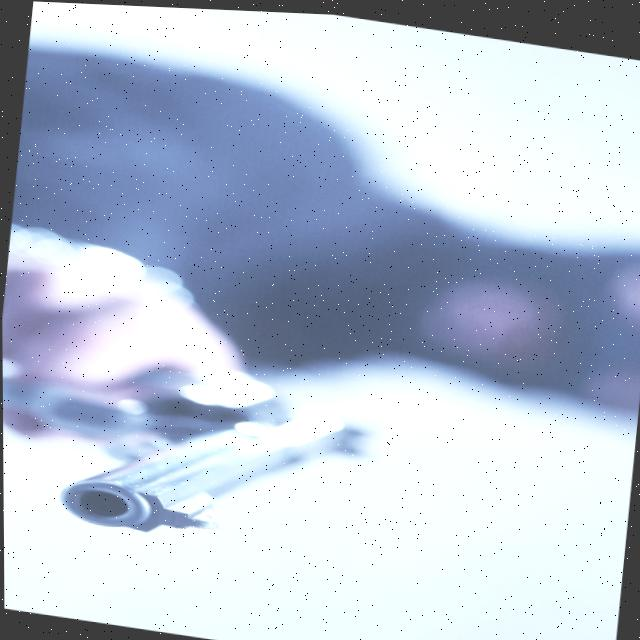pistol: (2, 341, 364, 563)
